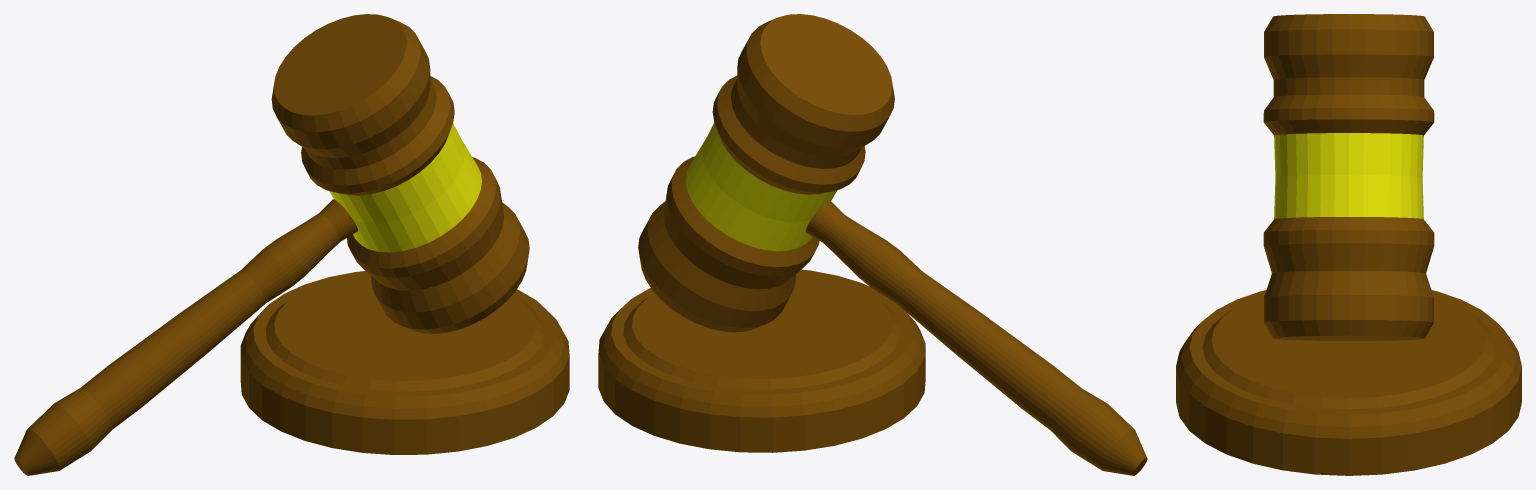
File: gavel.fbx
3 views of the same model, side by side, from view 1: azimuth 30°, elevation 25°; view 2: azimuth 150°, elevation 25°; view 3: azimuth 270°, elevation 25° (orthographic). The views are drawn at different scales.
Visible parts, largest first — view 1: Gavel; view 2: Gavel; view 3: Gavel.
Boxes of the visible parts, x1,y1,x2,y2 form: Gavel: (14, 14, 569, 475); Gavel: (598, 14, 1147, 475); Gavel: (1176, 14, 1521, 475).
Bounding box in the file's own units: 85.82 × 56.79 × 46.31.
